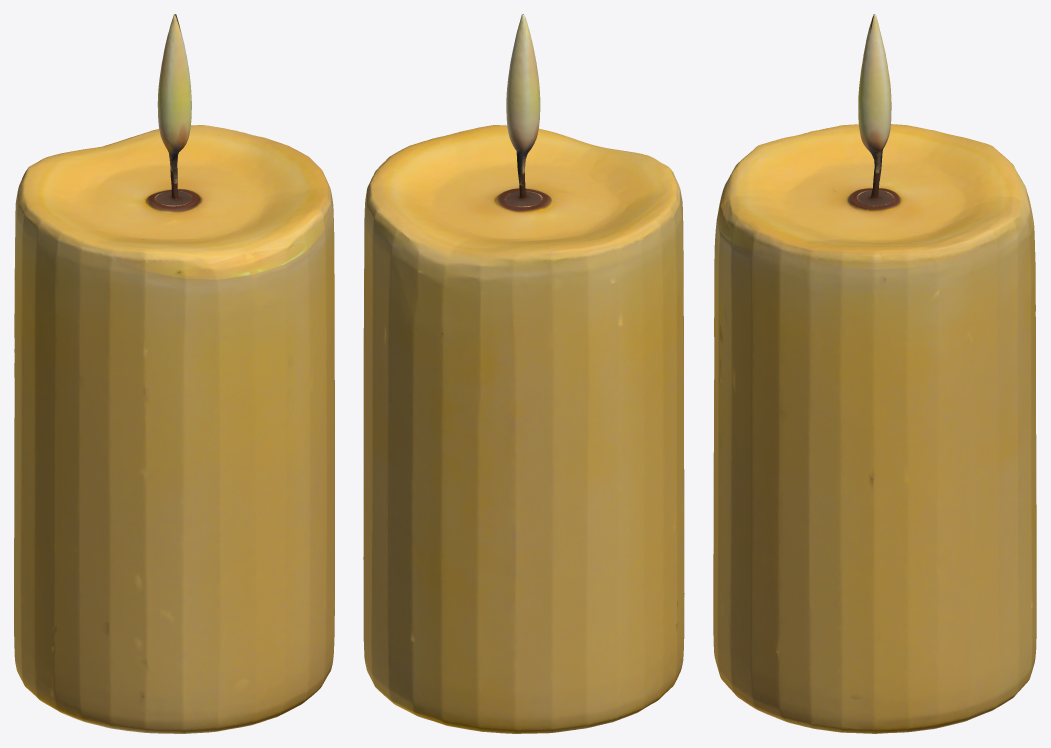
The model's file is candle.glb.
3 views of the same model, side by side, from view 1: azimuth 30°, elevation 25°; view 2: azimuth 150°, elevation 25°; view 3: azimuth 270°, elevation 25° (orthographic).
Bounding box in the file's own units: 0.8882 × 2 × 0.8889.
Materials: 1 (1 with a texture image).
